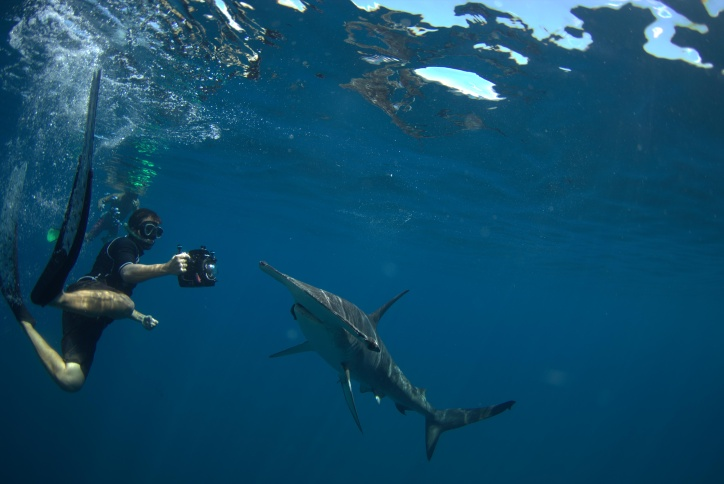Hammer: (253, 256, 532, 473)
